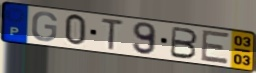0: (63, 13, 89, 49)
9: (131, 21, 159, 56)
B: (168, 25, 200, 61)
E: (200, 29, 232, 66)
G: (30, 11, 60, 43)
T: (100, 17, 126, 52)
